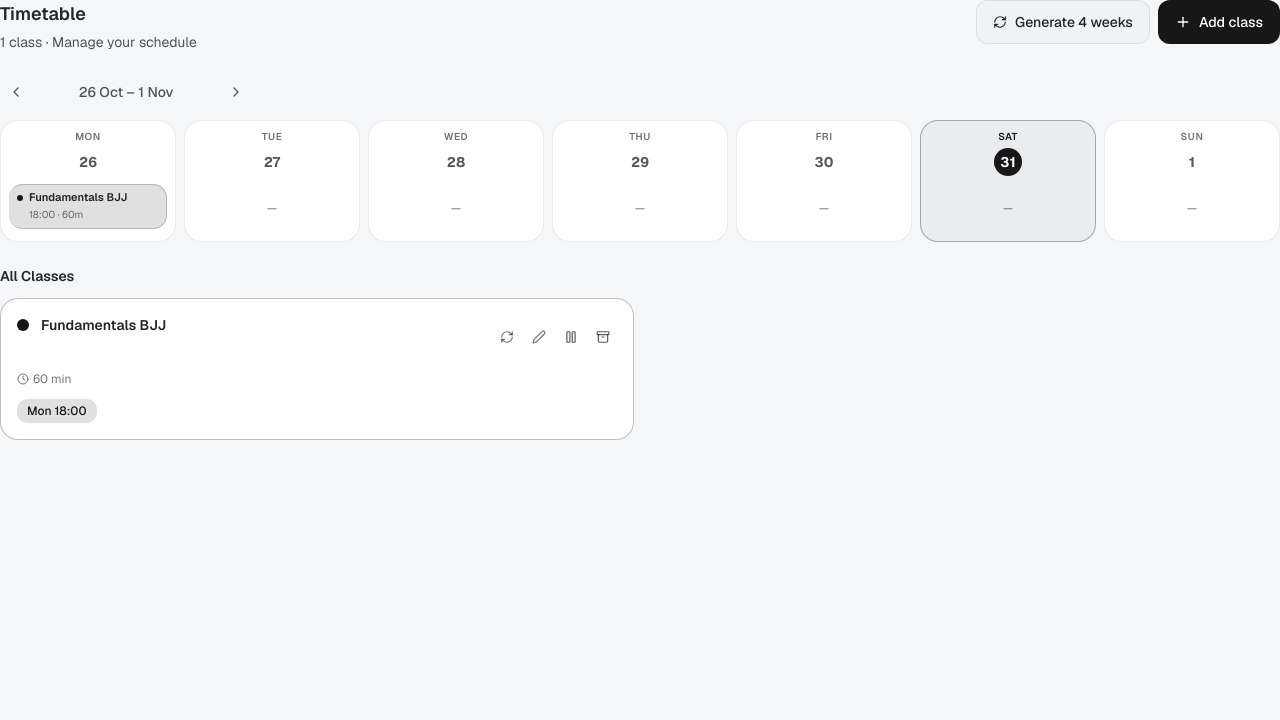
it: Archive with a counted confirmation › acceptance 3: reads the counts, says them, archives on confirm, and lists the class under Archived
Click the button named "Archive Fundamentals BJJ". click: [603, 336]
box: [589,320,617,352]
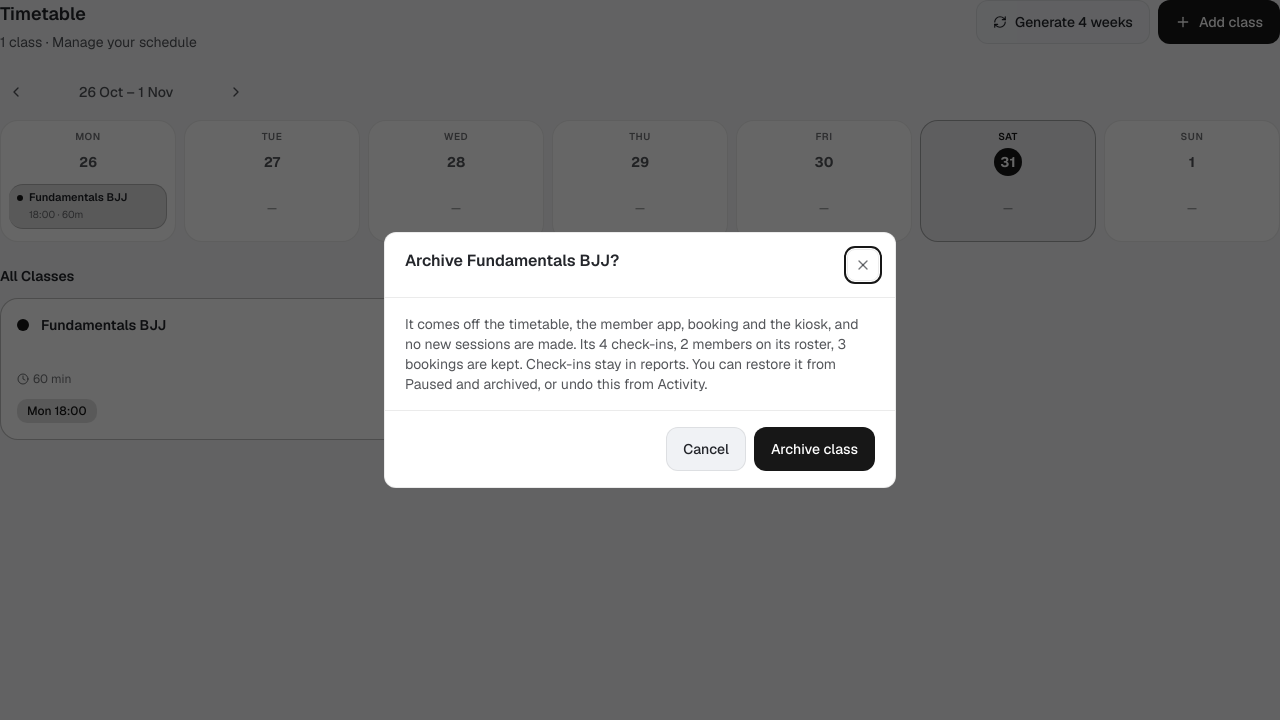
Expected: the heading "Archive Fundamentals BJJ?" is shown, [405,249,619,273]
Expected: the text "4 check-ins, 2 members on its roster, 3 bookings are kept" is shown, [405,315,858,393]
Click the button "Archive class". click: [814, 449]
box: [754,427,875,471]
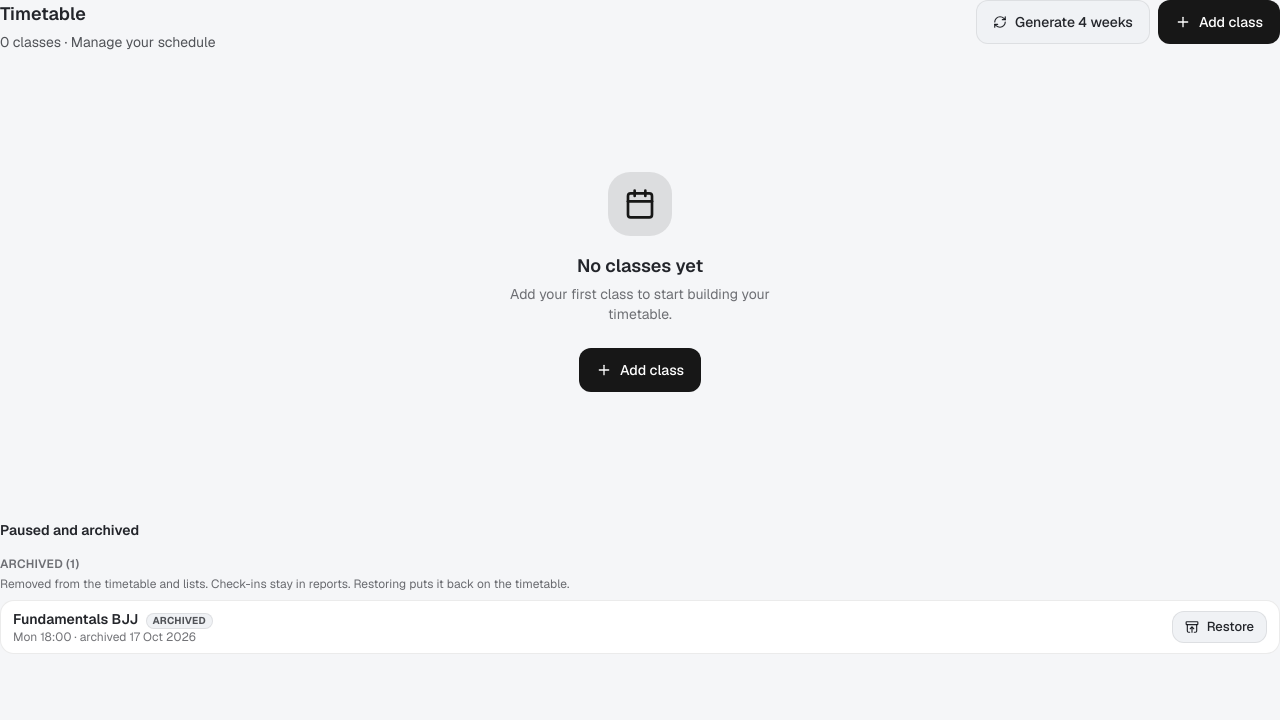
Expected: the button with aria-label "Restore Fundamentals BJJ" is shown, [1172,611,1267,643]
Expected: the list item with test id "inactive-class-c1" is shown, [0,600,1279,654]
Expected: the text "Archived" is shown, [146,613,213,629]
